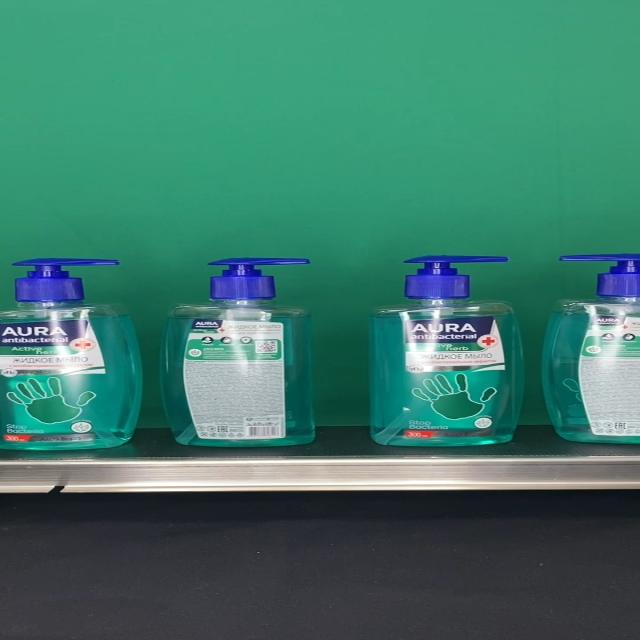Bottle: (158, 258, 316, 447), (369, 256, 524, 447), (0, 258, 143, 451)
Cap: (12, 258, 119, 302), (402, 256, 509, 299), (207, 258, 310, 300)
